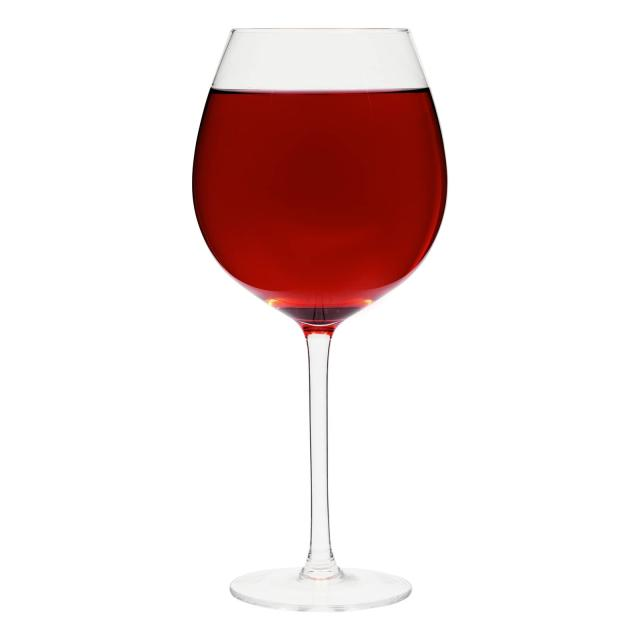Cup: (187, 22, 450, 608)
